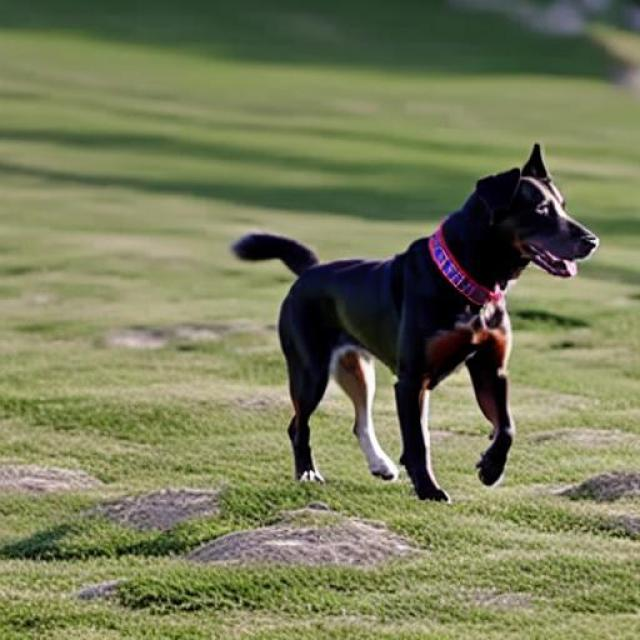Dog: (227, 142, 602, 502)
